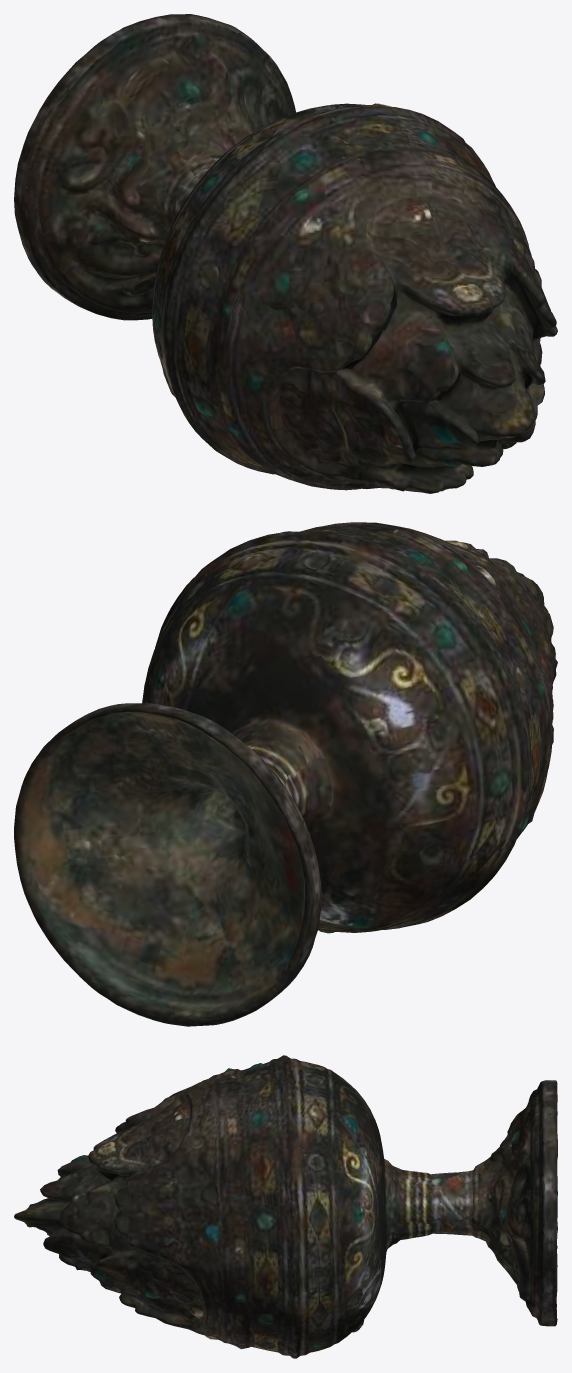
3 views of the same model, one above another, from view 1: azimuth 30°, elevation 25°; view 2: azimuth 150°, elevation 25°; view 3: azimuth 270°, elevation 25° (orthographic). The views are drawn at different scales.
Size of the model in its own units: 101 by 100 by 179.
1 material, 1 textured.
